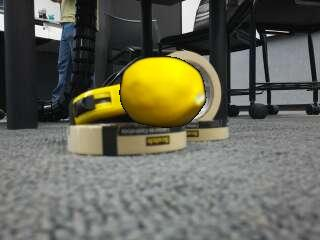lemon: (122, 57, 207, 126)
